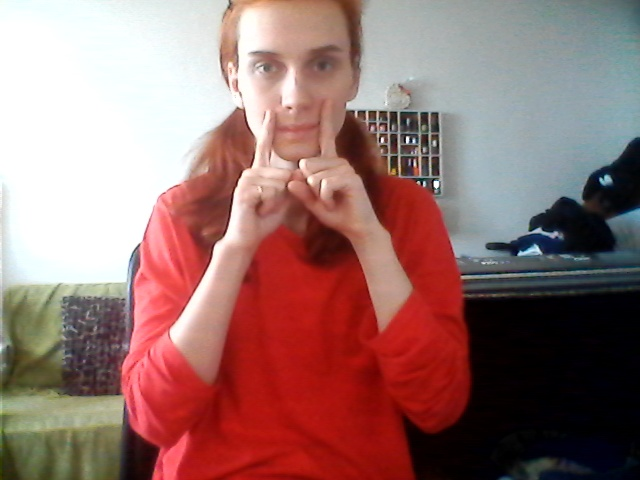h: (233, 96, 367, 237)
